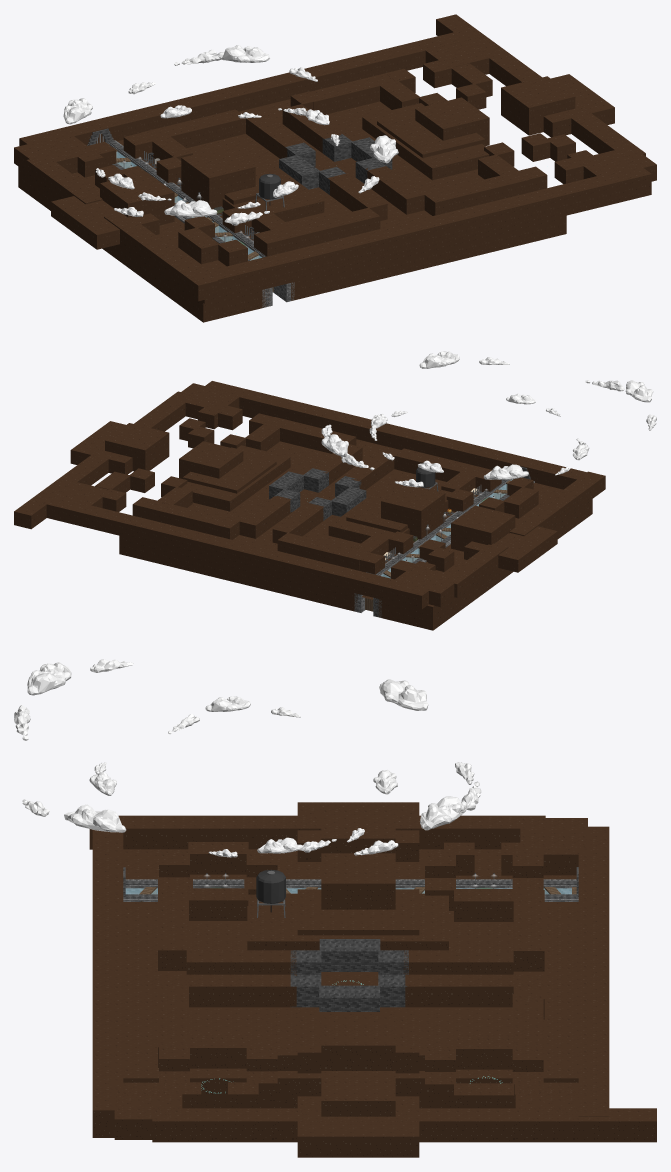
The model's file is concept5.gltf.
3 views of the same model, one above another, from view 1: azimuth 30°, elevation 25°; view 2: azimuth 150°, elevation 25°; view 3: azimuth 270°, elevation 25° (orthographic). The views are drawn at different scales.
Visible parts, largest first — view 1: Cube (×49), Clouds (×2), Water Tower; view 2: Cube (×43), Clouds (×2); view 3: Cube (×66), Clouds (×2), Water Tower.
Part boxes in pixels (bbox=[...]): Cube (×49): bbox=[14, 14, 656, 322]; Clouds (×2): bbox=[63, 45, 398, 225]; Water Tower: bbox=[255, 173, 284, 210]; Cube (×43): bbox=[14, 381, 605, 630]; Clouds (×2): bbox=[321, 351, 656, 487]; Cube (×66): bbox=[89, 802, 656, 1157]; Clouds (×2): bbox=[14, 659, 481, 857]; Water Tower: bbox=[256, 869, 285, 917].
Size of the model in its own units: 2585 by 632 by 1922.
Materials: 212 (176 with a texture image).
